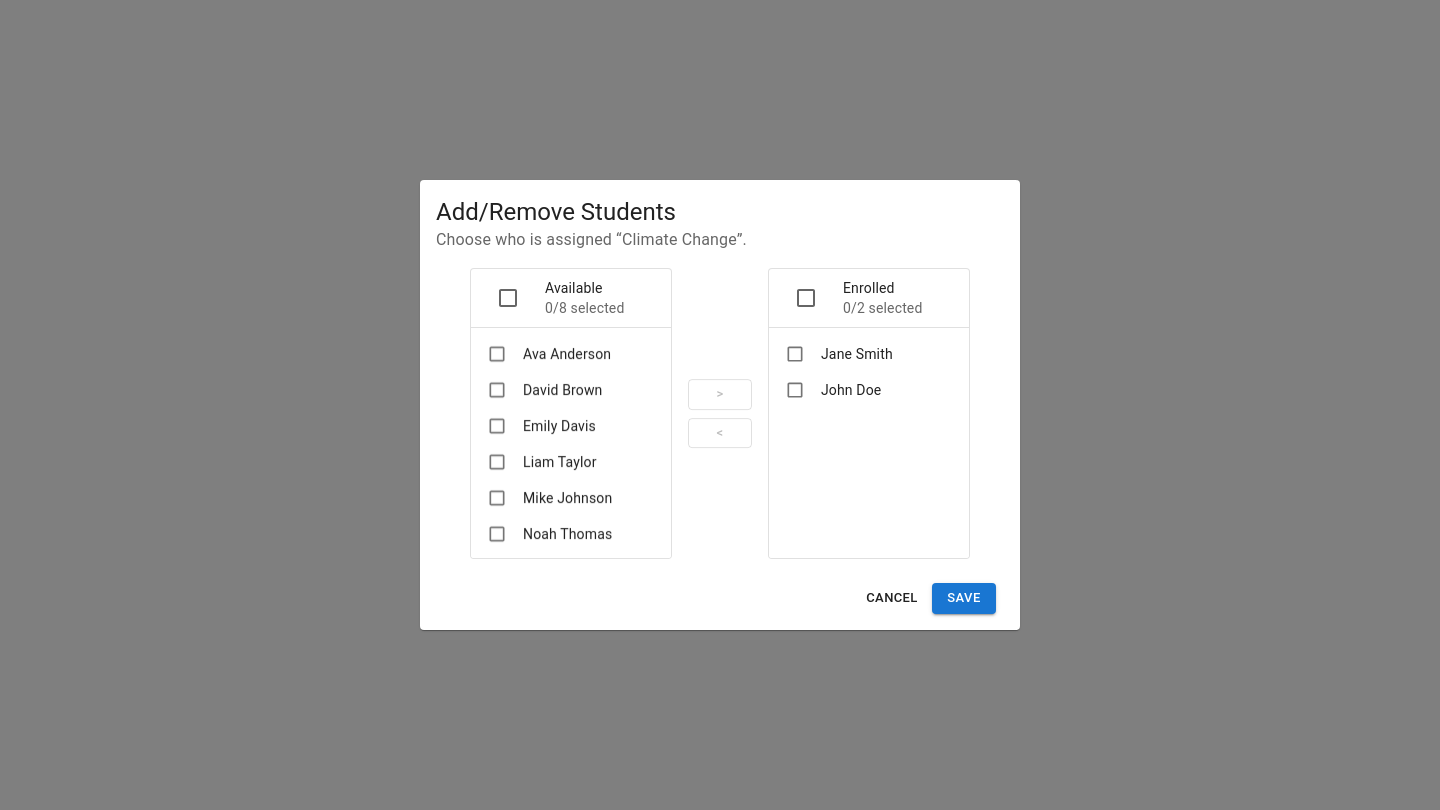
Test: AddStudentsModal — saving › persists the roster and refreshes the cards
The width and height of the screenshot is (1440, 810).
Expected: the checkbox labelled "Jane Smith" is shown, left=785, top=344, right=893, bottom=364
Click the checkbox labelled "Mike Johnson": x=550, y=498 left=487, top=488, right=612, bottom=508
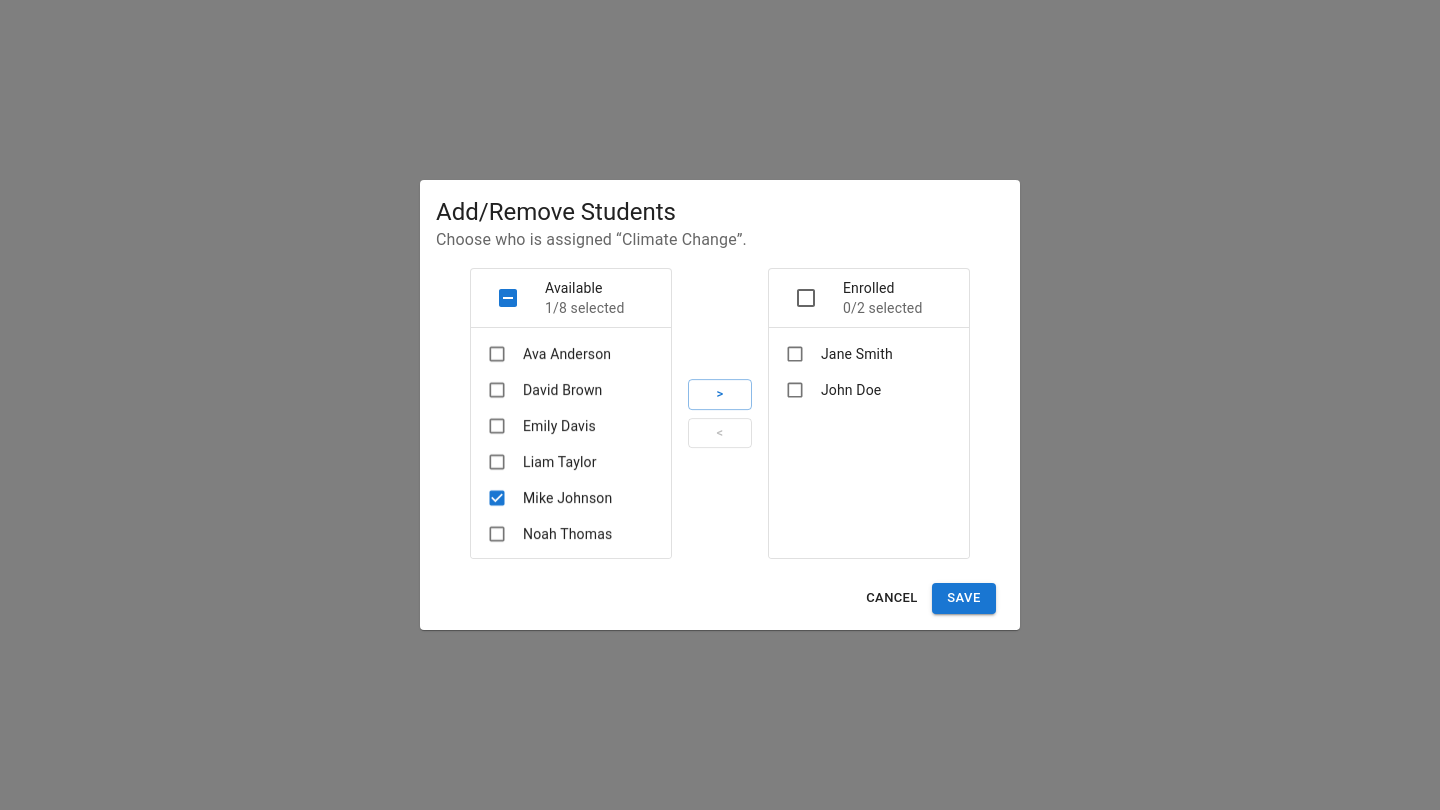
Click the button named "add selected": x=720, y=394 left=688, top=379, right=752, bottom=410
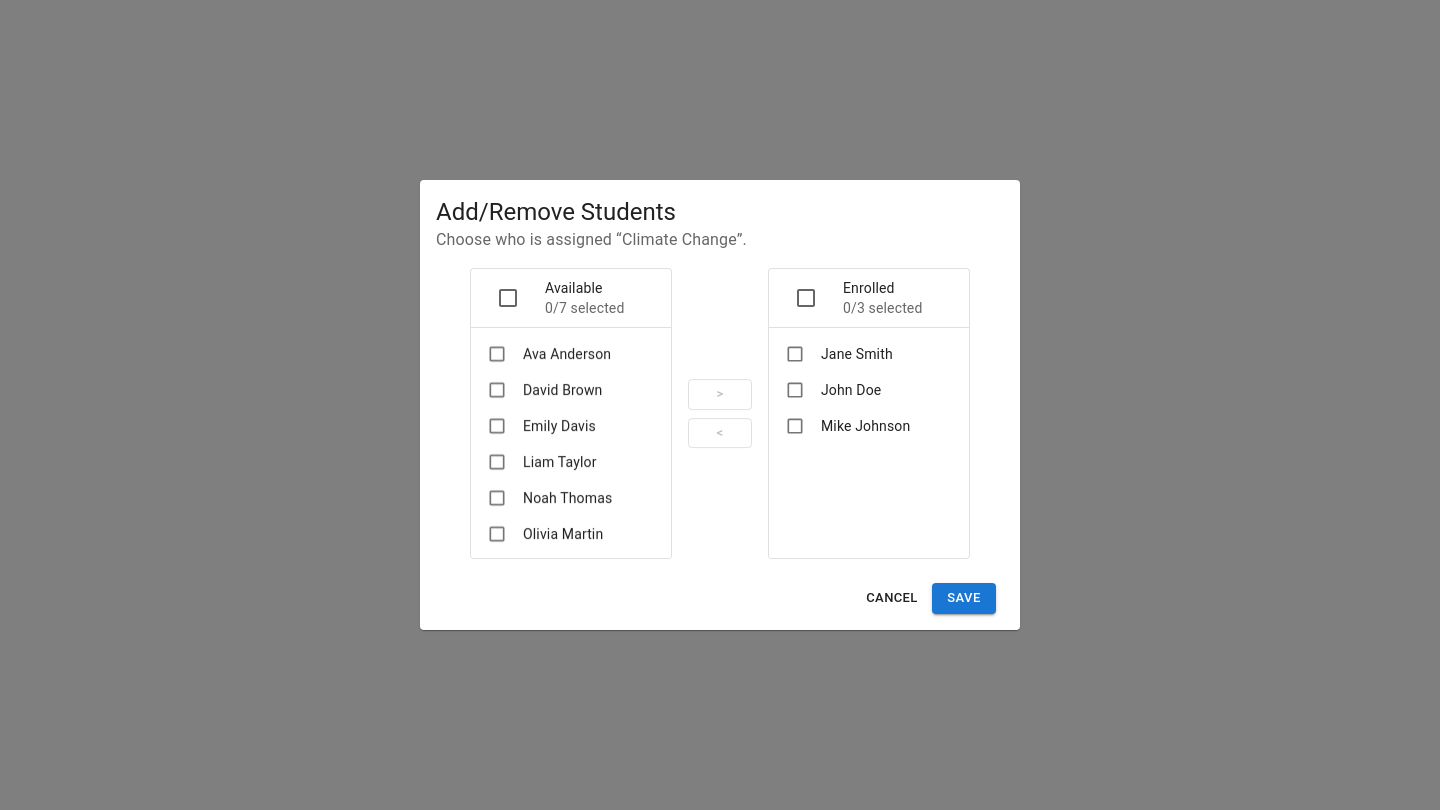
Click the button "Save": x=964, y=598 left=932, top=583, right=996, bottom=614
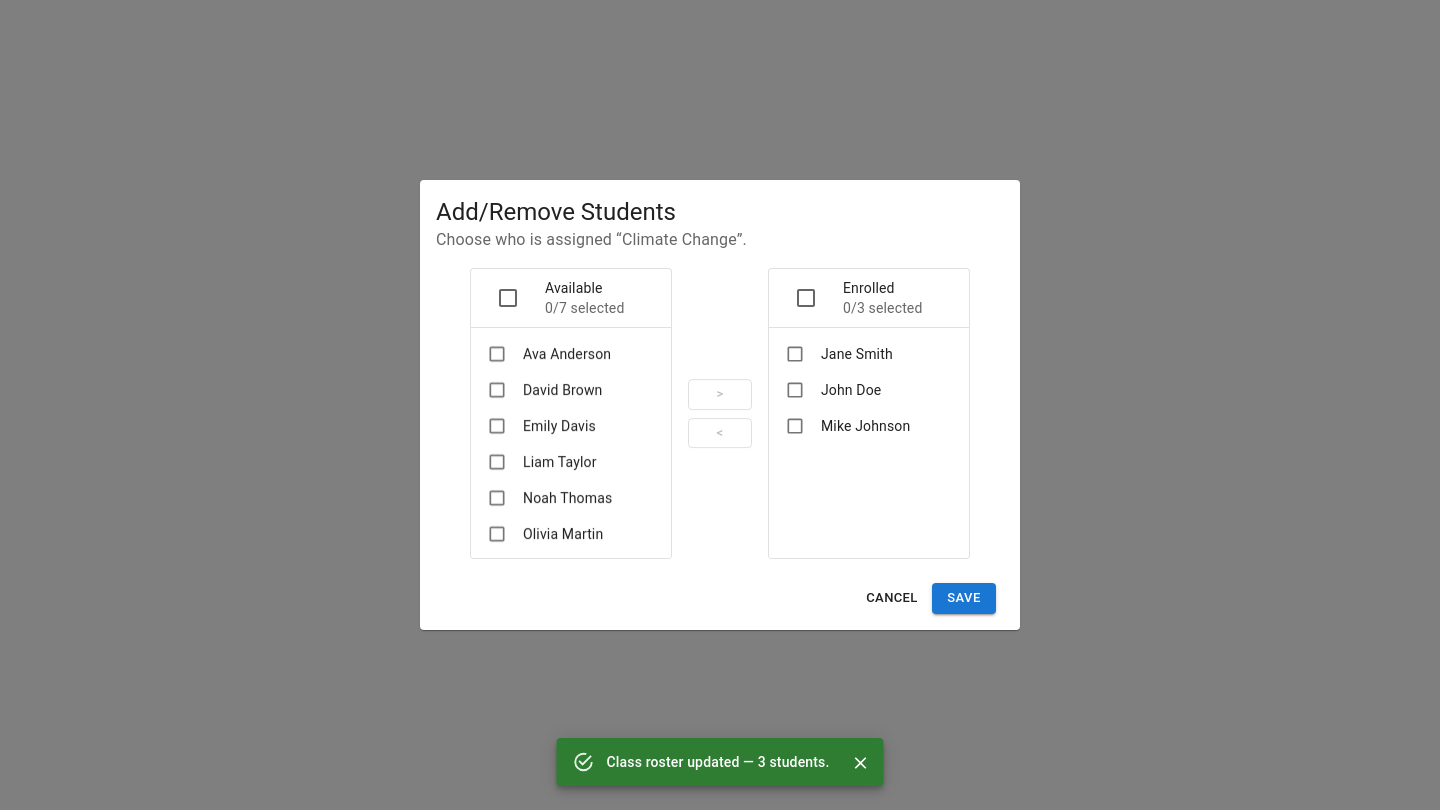
Expected: the text "Class roster updated — 3 students." is shown, left=606, top=754, right=830, bottom=770
